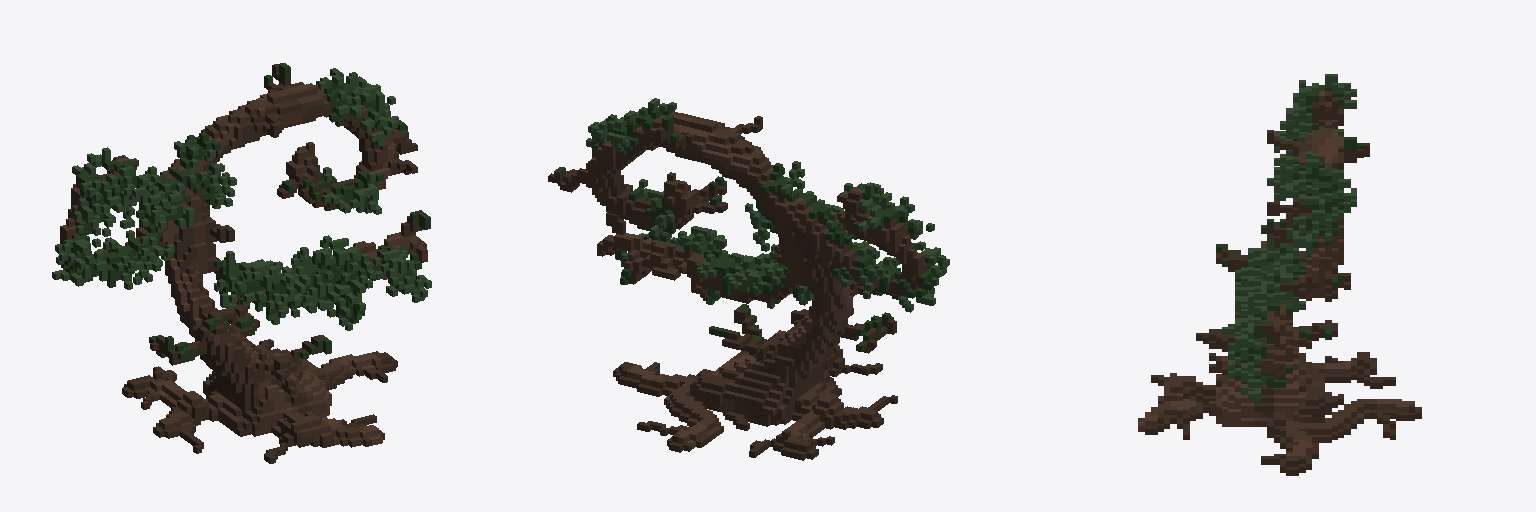
The picture shows the model from 3 angles: view 1: azimuth 30°, elevation 25°; view 2: azimuth 150°, elevation 25°; view 3: azimuth 270°, elevation 25°; orthographic projection.
Parts seen in each view (by area): view 1: Tree; view 2: Tree; view 3: Tree.
Boxes of the visible parts, <box> form: Tree: <box>52,63,431,463</box>; Tree: <box>548,98,949,460</box>; Tree: <box>1138,74,1421,475</box>.
Bounding box in the file's own units: 6.6 × 5.1 × 4.4.
Materials: 1 (1 with a texture image).